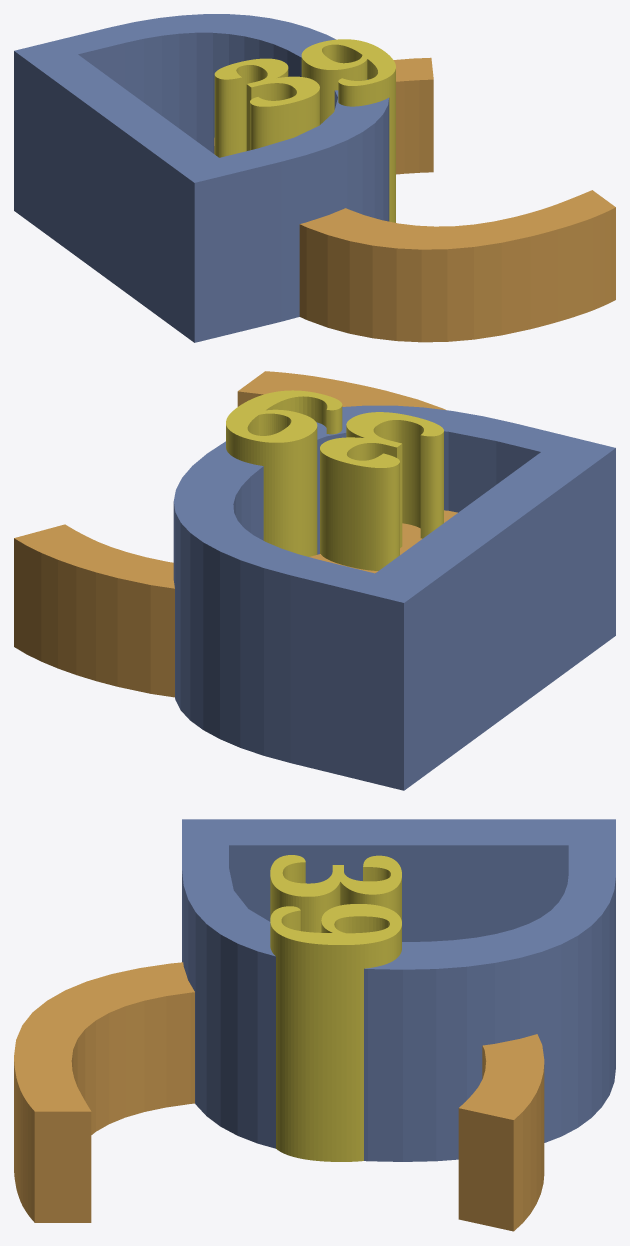
3 views of the same model, one above another, from view 1: azimuth 30°, elevation 25°; view 2: azimuth 150°, elevation 25°; view 3: azimuth 270°, elevation 25° (orthographic). The views are drawn at different scales.
Visible parts, largest first — view 1: Mesh_Mesh_head_geo.001_lambert2SG.001; view 2: Mesh_Mesh_head_geo.001_lambert2SG.001; view 3: Mesh_Mesh_head_geo.001_lambert2SG.001.
Part boxes in pixels (box(x1,y1,x2,y2)): Mesh_Mesh_head_geo.001_lambert2SG.001: box(14, 14, 615, 342); Mesh_Mesh_head_geo.001_lambert2SG.001: box(14, 371, 615, 790); Mesh_Mesh_head_geo.001_lambert2SG.001: box(14, 819, 615, 1231).
Size of the model in its own units: 80.43 by 37 by 93.08.
